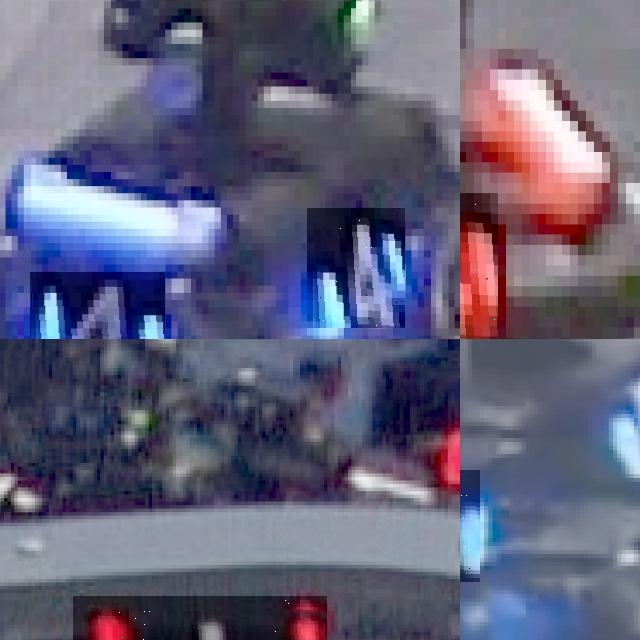B4: (307, 208, 405, 328), (29, 271, 165, 339)
R1: (72, 596, 327, 640)
